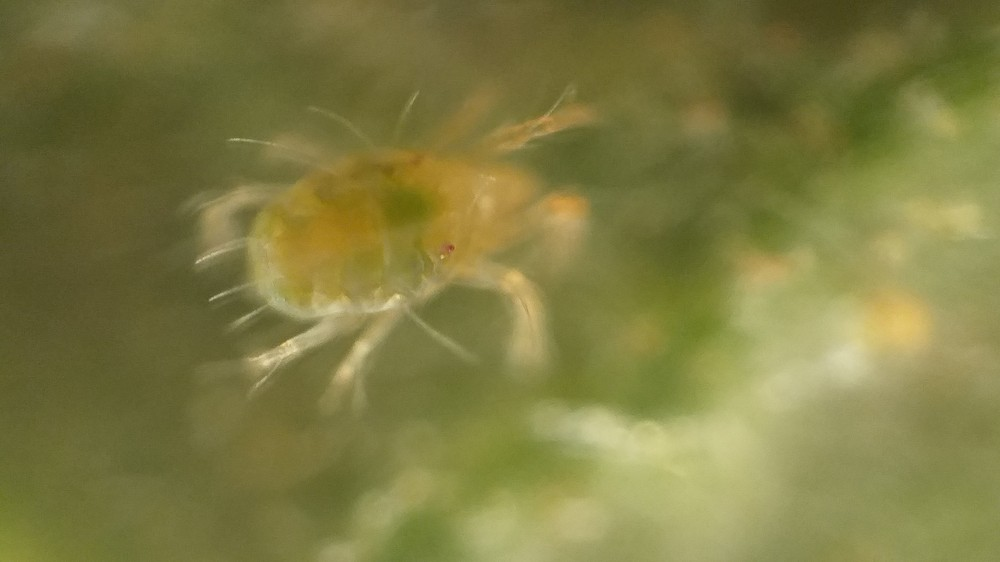Aracnido Rojo: (169, 62, 640, 416)
